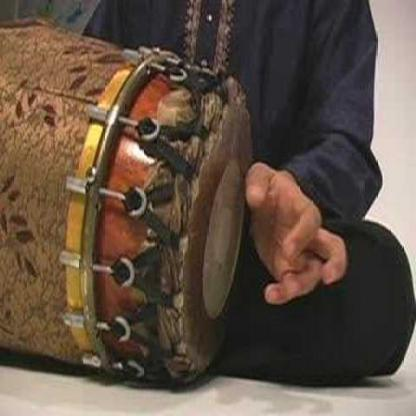Mridangam: (3, 18, 264, 383)
